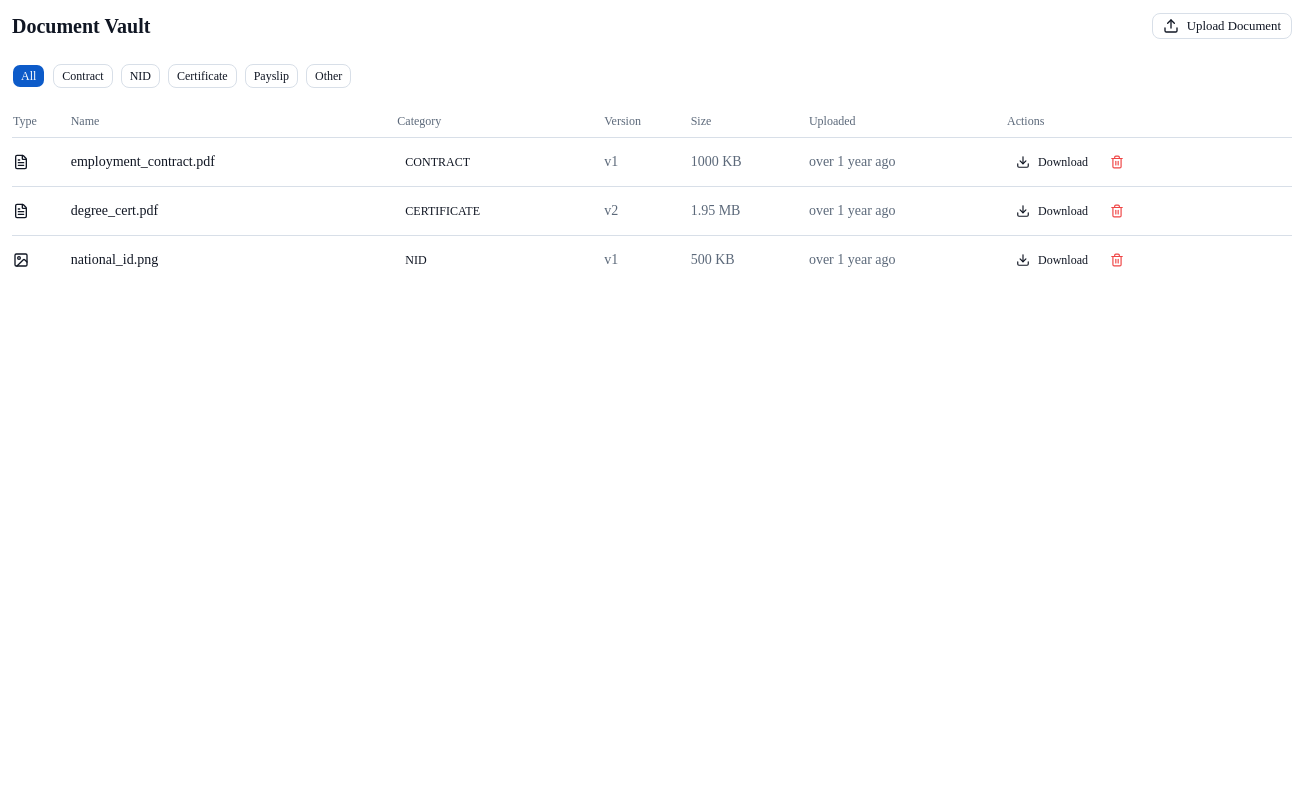
Test: Documents Regression Tests › FE-DOC-001: Document Vault Integration › toggles upload section on button click
The width and height of the screenshot is (1304, 812).
// Click upload button
Click the button "Upload Document" at (1222, 26), box [1152,13,1292,39]
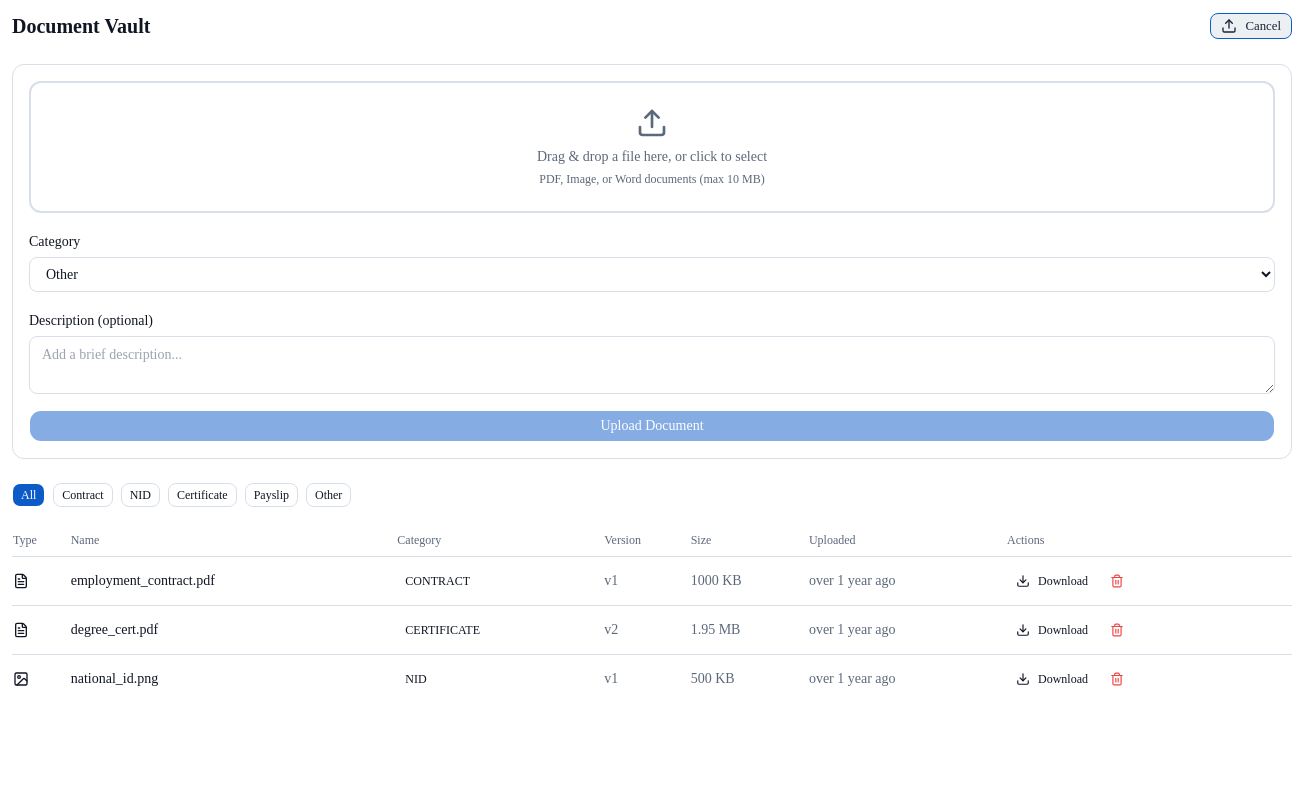
Check: the text "Drag & drop a file here, or click to select" is shown, box [537,149,767,164]
Check: the button "Cancel" is shown
// Click Cancel hides dropzone
Click the button "Cancel" at (1251, 26), box [1210,13,1292,39]
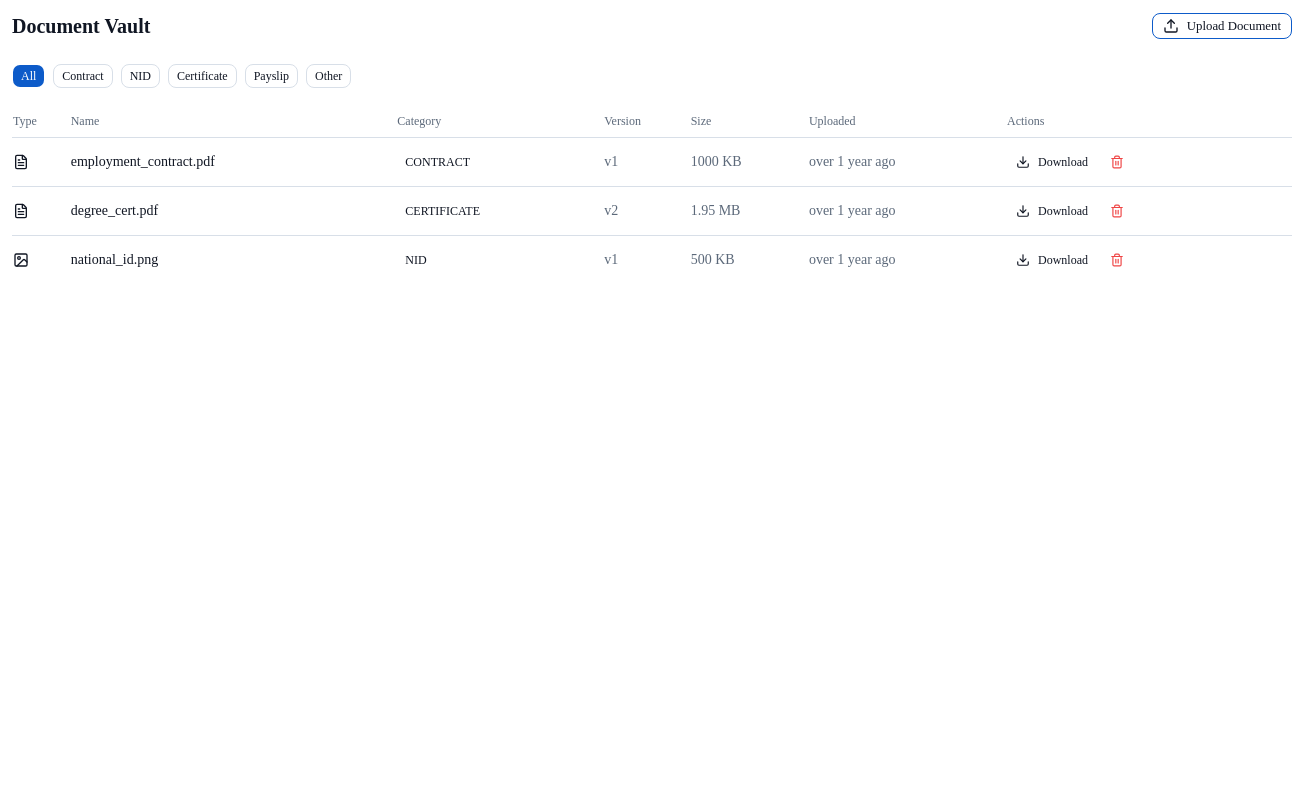
Check: the text "Drag & drop a file here" is gone
